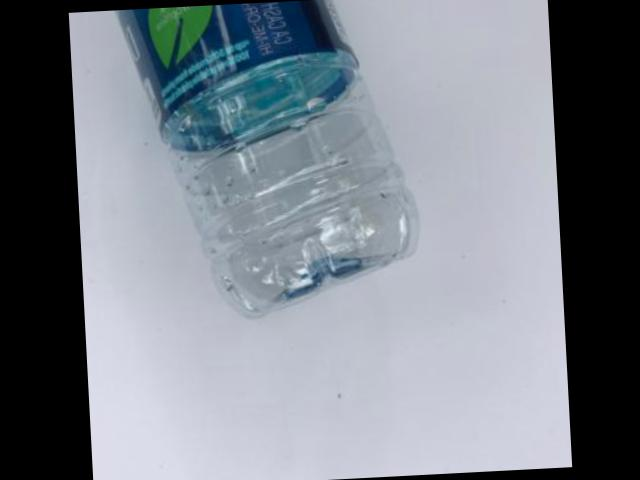plastic: (119, 0, 418, 318)
